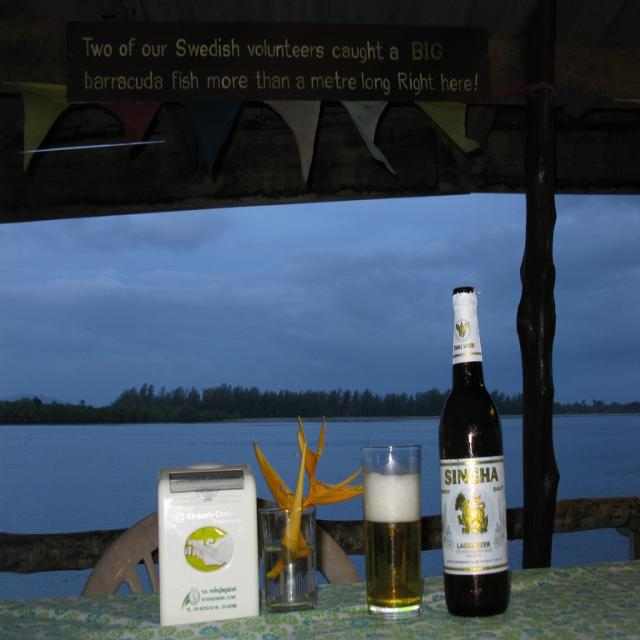singha: (439, 460, 510, 576)
